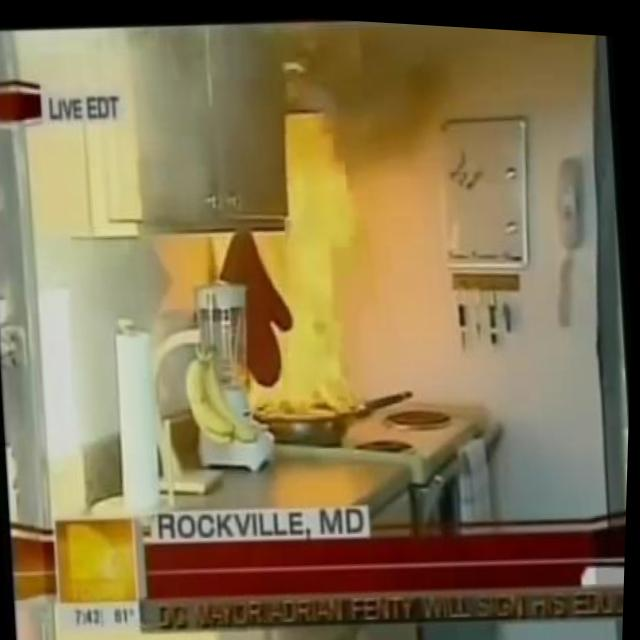fire: (235, 153, 368, 416)
